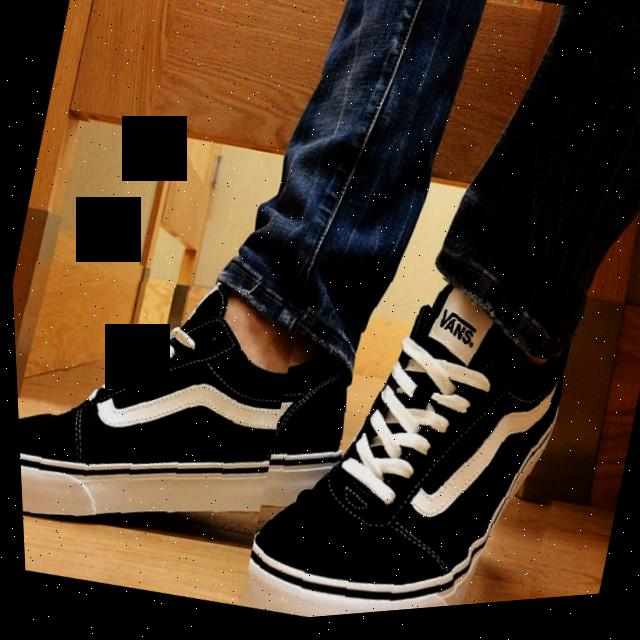shoe: (222, 239, 606, 626), (8, 213, 384, 586)
